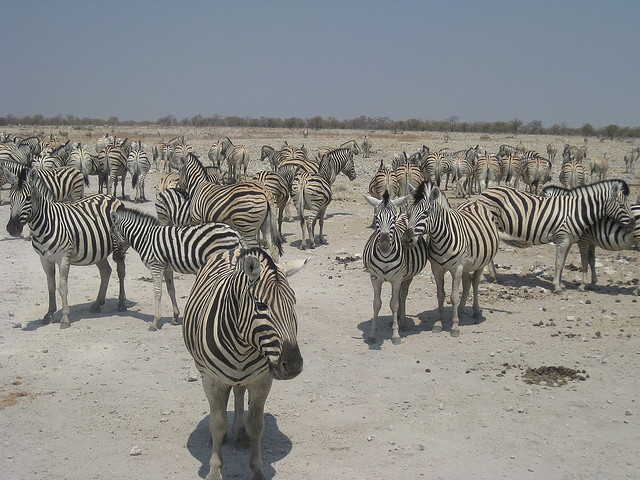zebra: (180, 244, 308, 479), (3, 166, 129, 328), (106, 205, 246, 329), (477, 180, 635, 288), (405, 181, 499, 332), (176, 151, 283, 256), (363, 192, 432, 342), (539, 186, 640, 288), (291, 154, 336, 253), (1, 160, 87, 202), (252, 164, 296, 242), (95, 142, 133, 198), (388, 150, 424, 201), (159, 166, 224, 193), (312, 148, 359, 184), (126, 139, 152, 202), (64, 141, 96, 189), (448, 146, 484, 188), (411, 144, 444, 183), (496, 144, 524, 186), (367, 161, 396, 200), (521, 153, 550, 189), (472, 154, 502, 186), (32, 143, 72, 166), (558, 161, 586, 191)
